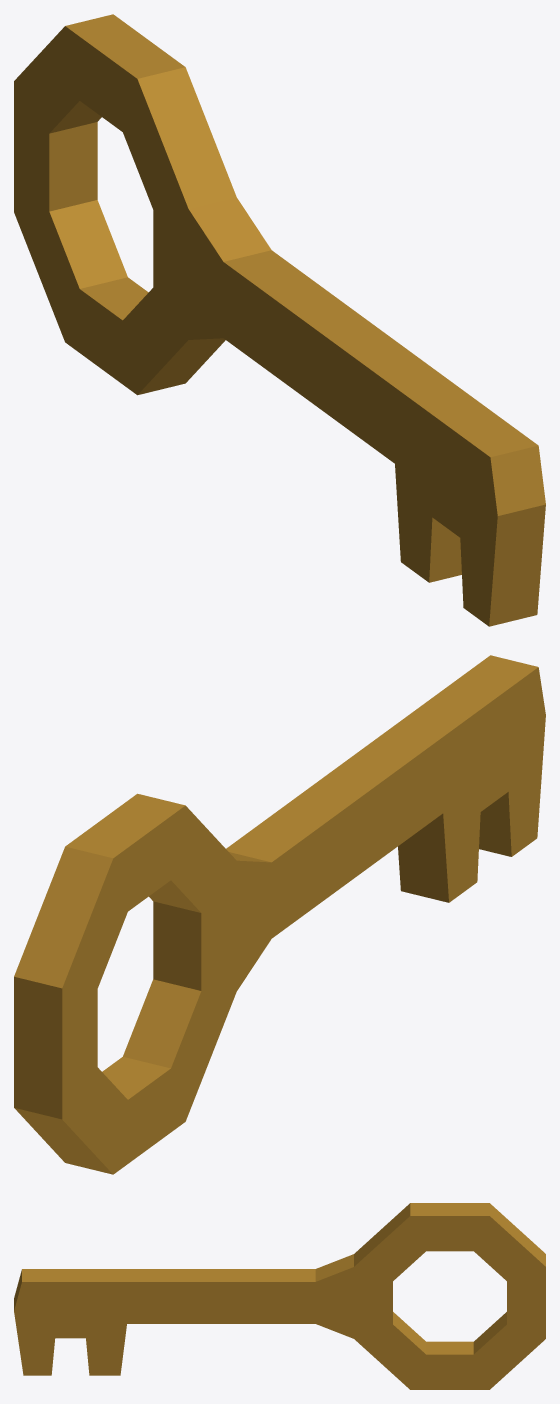
Rendered from LPHorror_Key.fbx.
The picture shows the model from 3 angles, top to bottom: view 1: azimuth 30°, elevation 25°; view 2: azimuth 150°, elevation 25°; view 3: azimuth 270°, elevation 25°; orthographic projection. The views are drawn at different scales.
Parts seen in each view (by area): view 1: Key; view 2: Key; view 3: Key.
Part boxes in pixels (left/top/right/bottom): Key: left=14, top=14, right=545, bottom=626; Key: left=14, top=655, right=545, bottom=1174; Key: left=14, top=1203, right=545, bottom=1389.
Size of the model in its own units: 3.09 by 19.4 by 53.76.
